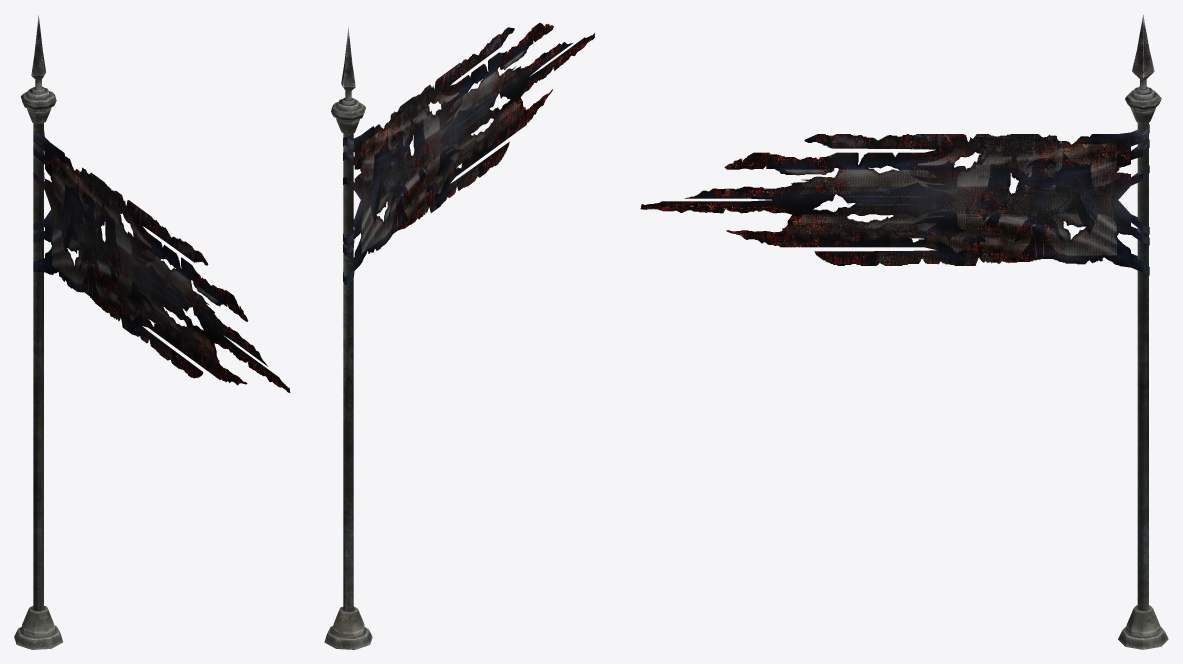
File: bg_lut_lucastle_castleflag07_sm_phs.FBX
3 renders of one model, left to right at view 1: azimuth 30°, elevation 25°; view 2: azimuth 150°, elevation 25°; view 3: azimuth 270°, elevation 25°, orthographic. The views are drawn at different scales.
Visible parts, largest first — view 1: bg_lut_lucastle_castleflag07_sm_phs; view 2: bg_lut_lucastle_castleflag07_sm_phs; view 3: bg_lut_lucastle_castleflag07_sm_phs.
Boxes of the visible parts, bbox=[...] form: bg_lut_lucastle_castleflag07_sm_phs: bbox=[14, 15, 290, 649]; bg_lut_lucastle_castleflag07_sm_phs: bbox=[324, 22, 594, 649]; bg_lut_lucastle_castleflag07_sm_phs: bbox=[640, 15, 1168, 649].
Bounding box in the file's own units: 45.78 × 619 × 484.
